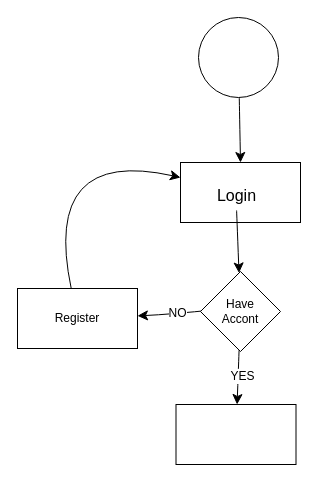
Image size: 318x482. Some labels were removed from this diagram. Here are the shapes that lost their labels. From the top down, the centre of each, then its label:
At (x=238, y=57): "Start".
At (x=235, y=434): "Add Task page".
